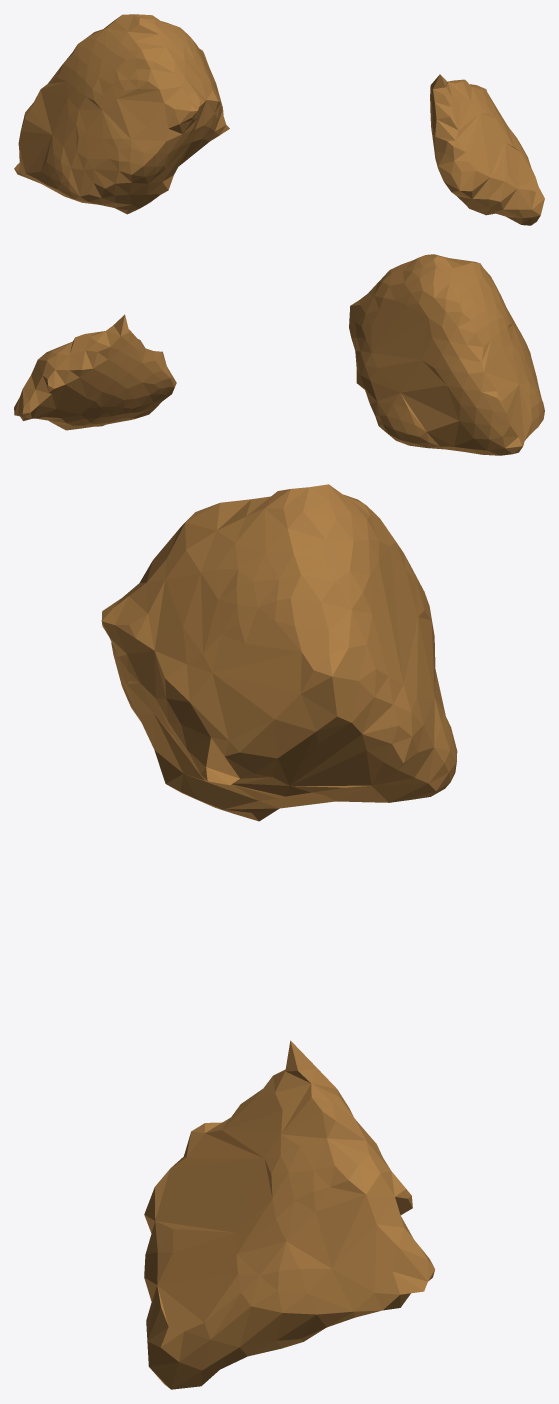
The model's file is Model_7_RH__Anterior_olfactory_nucleus_(AON).obj.
3 views of the same model, one above another, from view 1: azimuth 30°, elevation 25°; view 2: azimuth 150°, elevation 25°; view 3: azimuth 270°, elevation 25° (orthographic). The views are drawn at different scales.
Size of the model in its own units: 3.15 by 1.69 by 0.9969.
